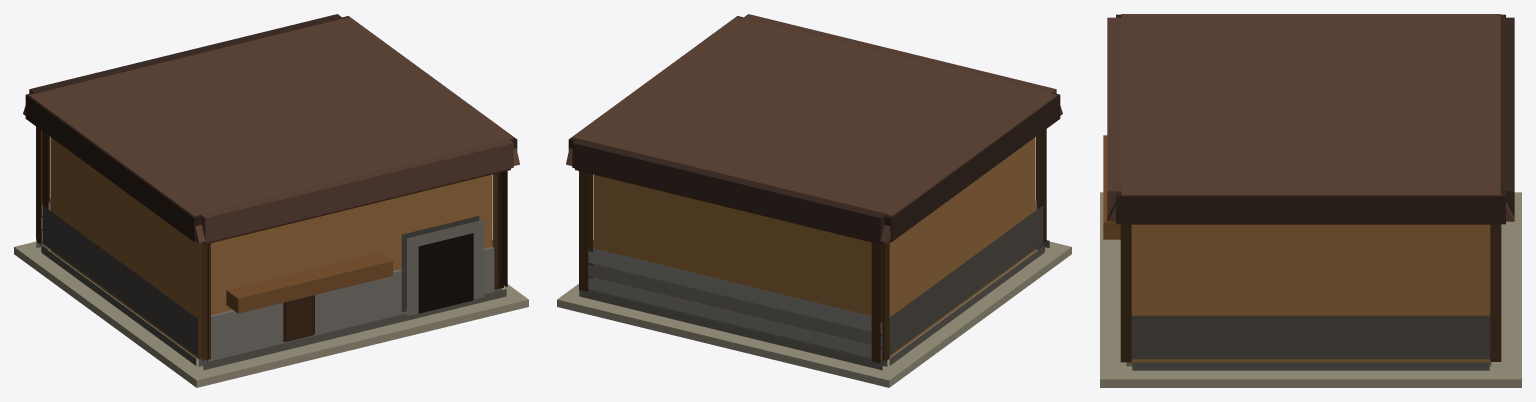
Rendered from CheeseDragonSil.fbx.
3 views of the same model, side by side, from view 1: azimuth 30°, elevation 25°; view 2: azimuth 150°, elevation 25°; view 3: azimuth 270°, elevation 25° (orthographic). The views are drawn at different scales.
Visible parts, largest first — view 1: DR_S_All; view 2: DR_S_All; view 3: DR_S_All.
Boxes of the visible parts, x1,y1,x2,y2 form: DR_S_All: (14, 14, 528, 387); DR_S_All: (557, 14, 1071, 387); DR_S_All: (1100, 14, 1521, 387).
Bounding box in the file's own units: 42.04 × 19.9 × 40.04.
